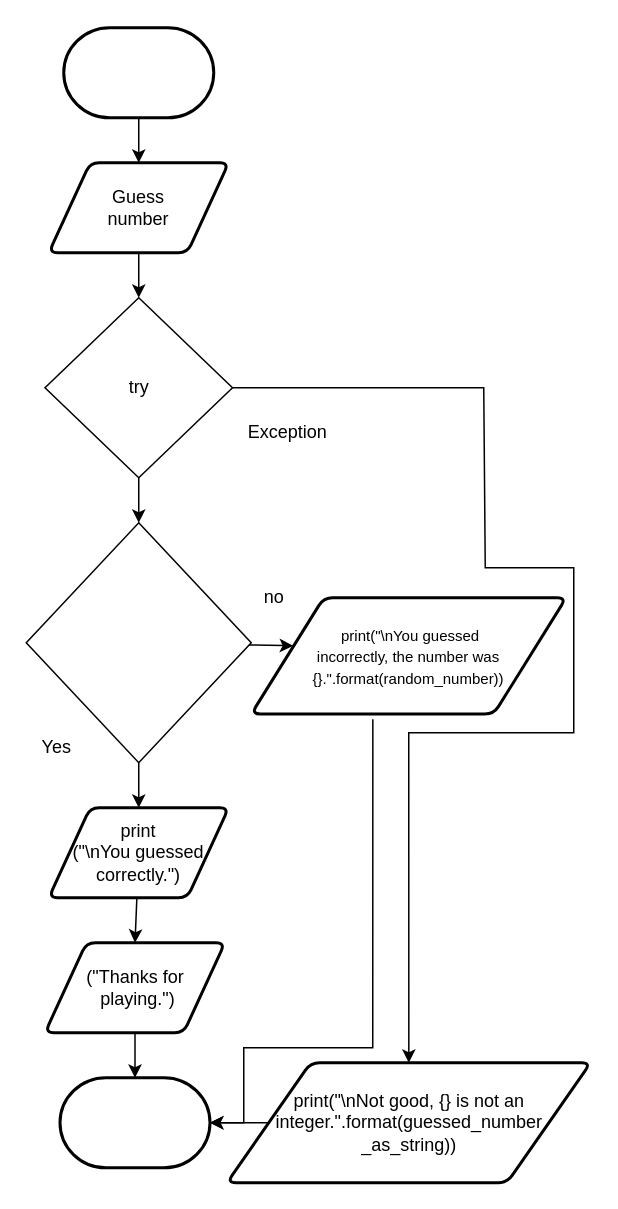
The diagram is 618 pixels wide and 1209 high, and some of its shapes have lost their labels. The shapes that lost their labels are listed below. From the top down, each one's box as (x1, y1, x2, y2) in pixels, then its label:
(62, 26, 214, 118): Start
(25, 521, 251, 763): if guessed_number_ as_number == random_number:
(58, 1076, 211, 1168): Stop
